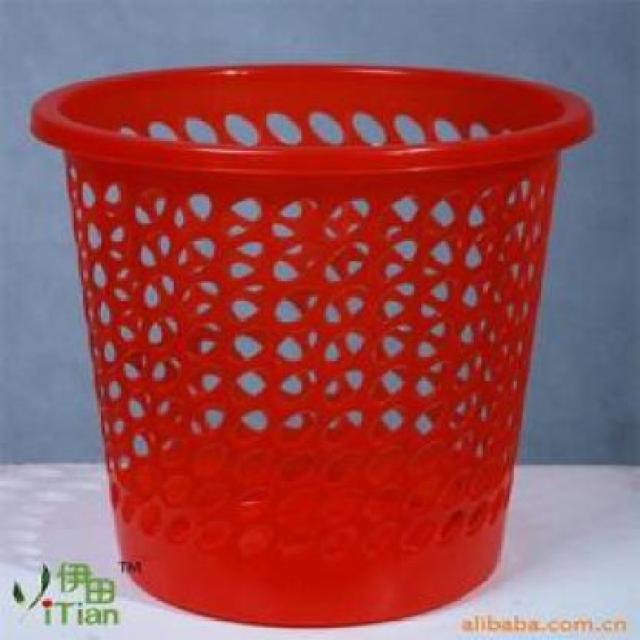dustbin: (24, 59, 598, 636)
